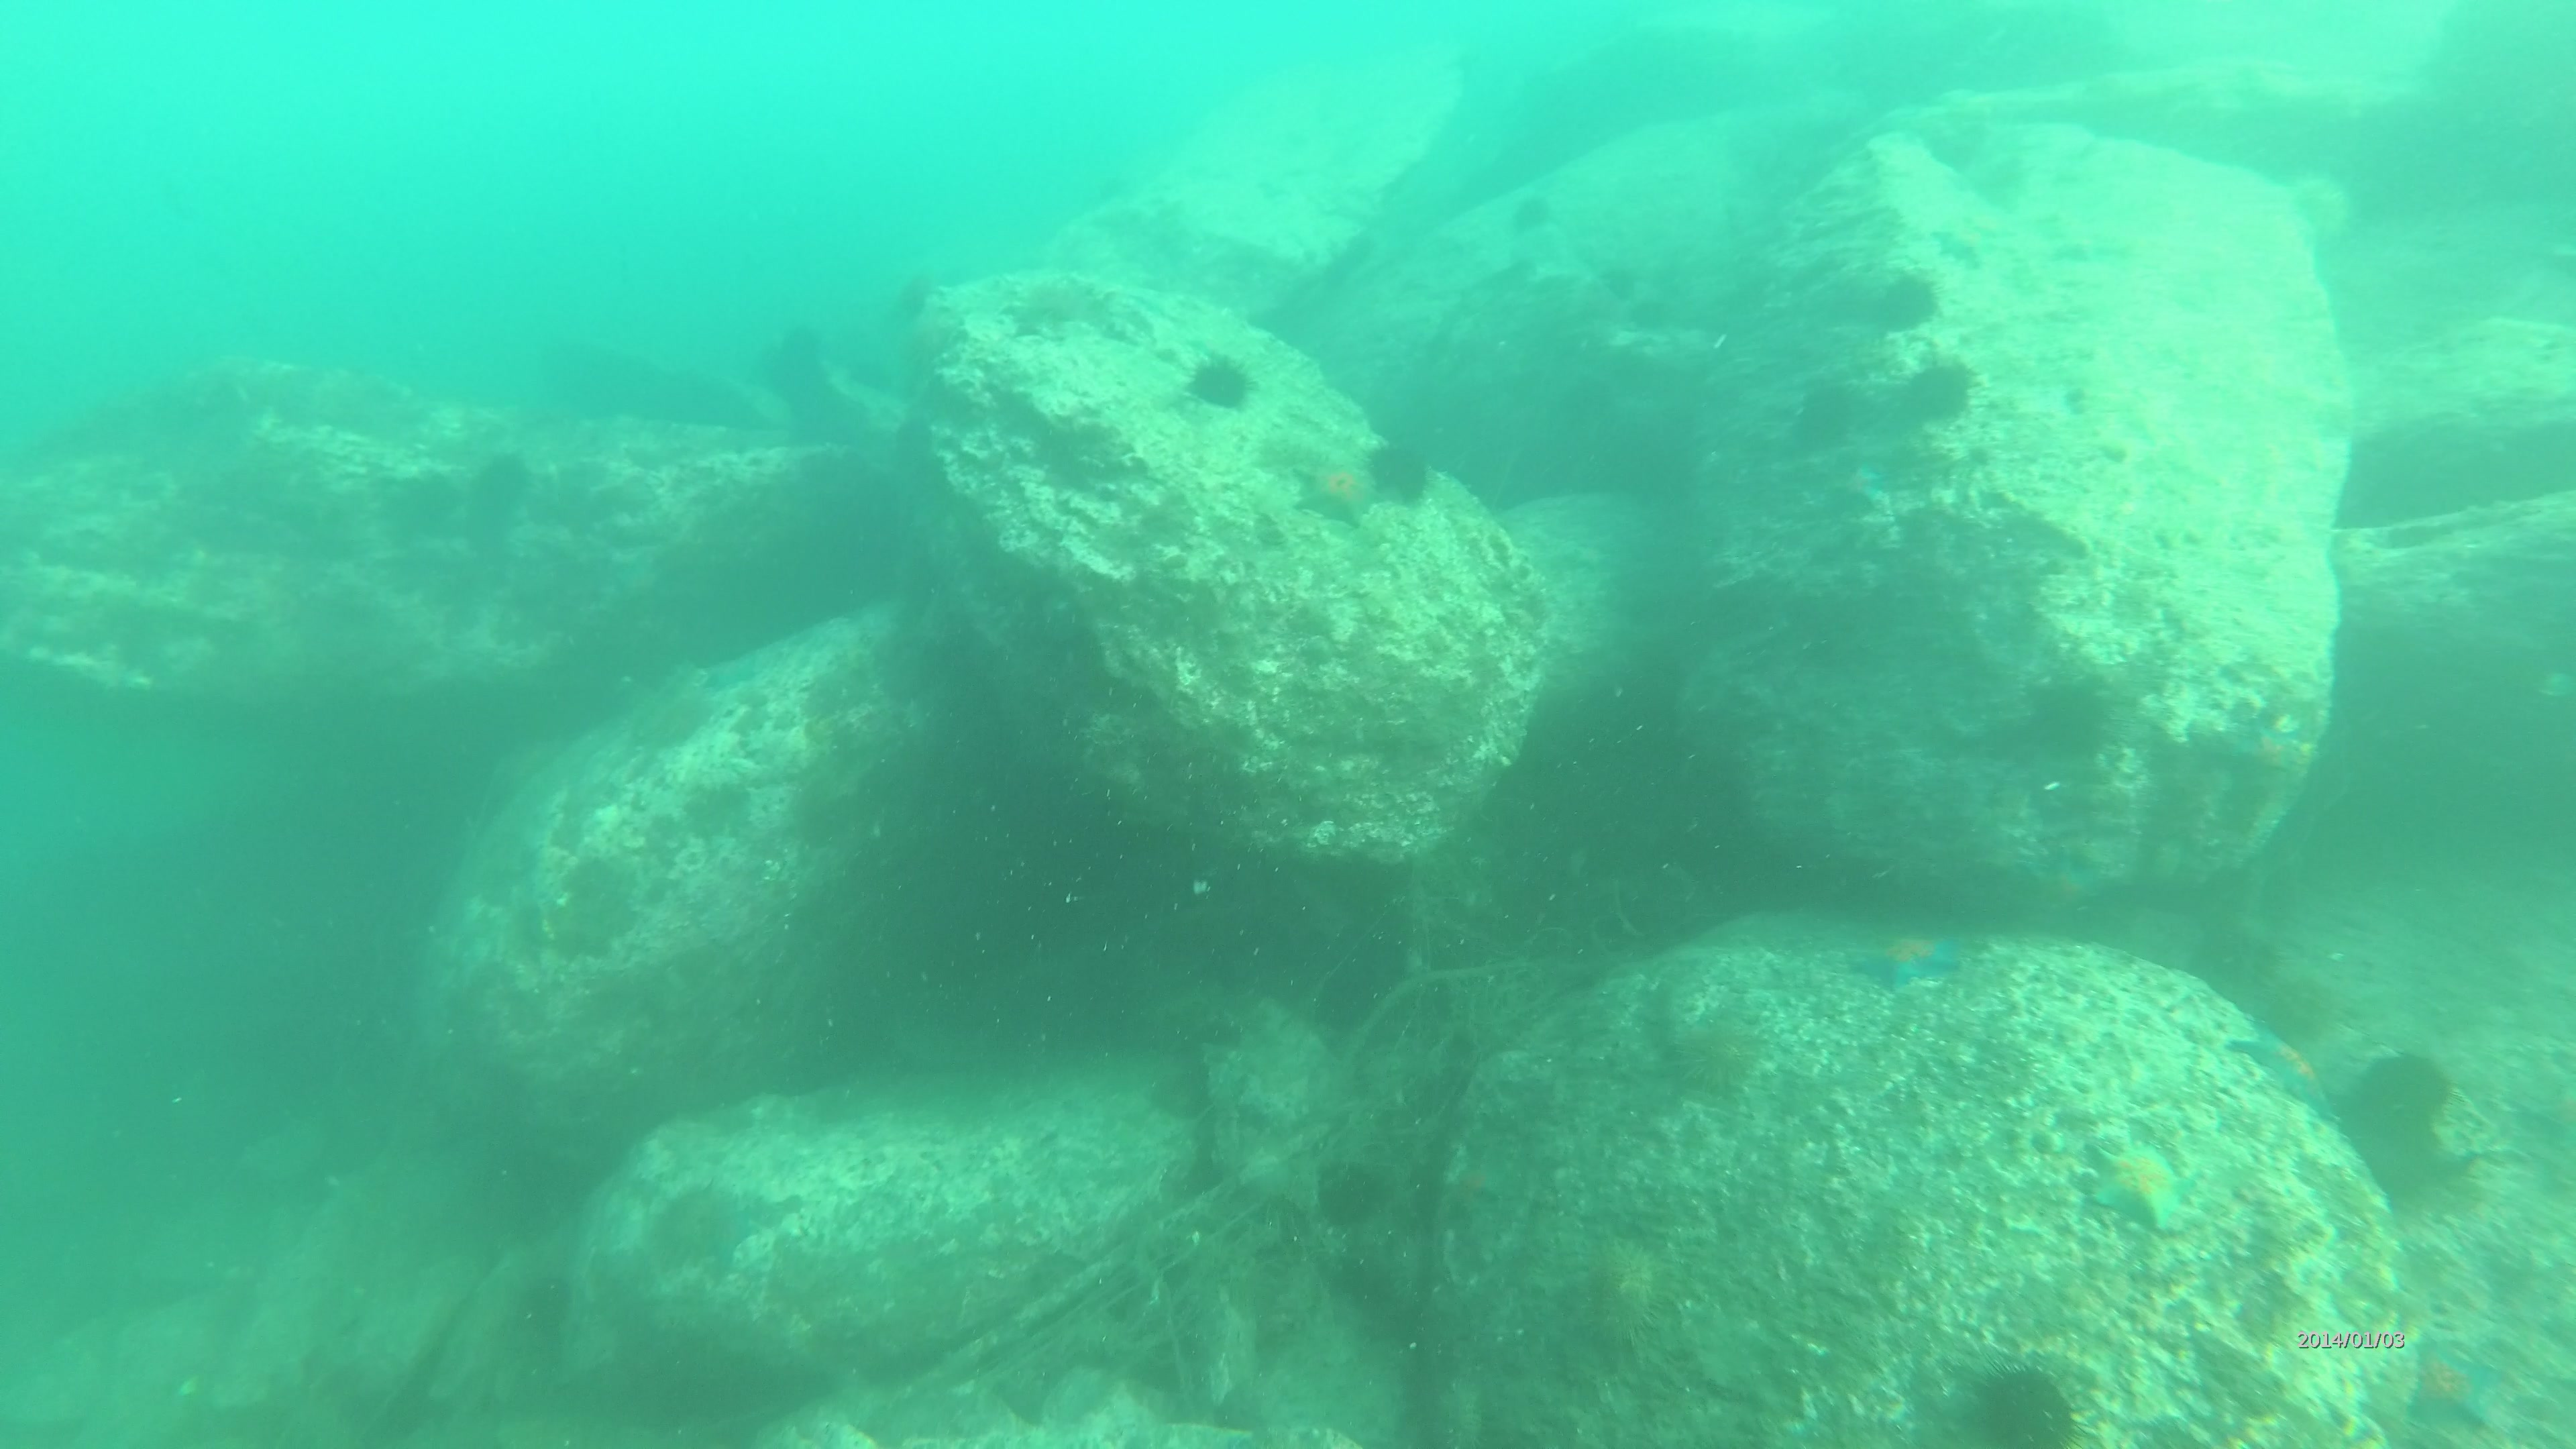echinus: (1962, 1361, 2104, 1449), (2348, 1044, 2456, 1150), (1568, 1246, 1679, 1346), (1677, 1014, 1773, 1097), (649, 1177, 727, 1263), (1378, 1231, 1454, 1309), (1870, 265, 1934, 341), (2250, 975, 2330, 1035), (471, 453, 540, 522), (1905, 357, 1973, 428), (1178, 352, 1253, 414), (2298, 165, 2360, 239), (1364, 433, 1424, 506), (384, 465, 460, 522), (1798, 380, 1856, 446)
starfish: (2231, 1010, 2355, 1129), (2084, 1134, 2201, 1235), (2404, 1327, 2502, 1426), (1859, 924, 1969, 1005), (1288, 453, 1375, 533), (1445, 1154, 1504, 1208), (706, 1205, 764, 1253)
